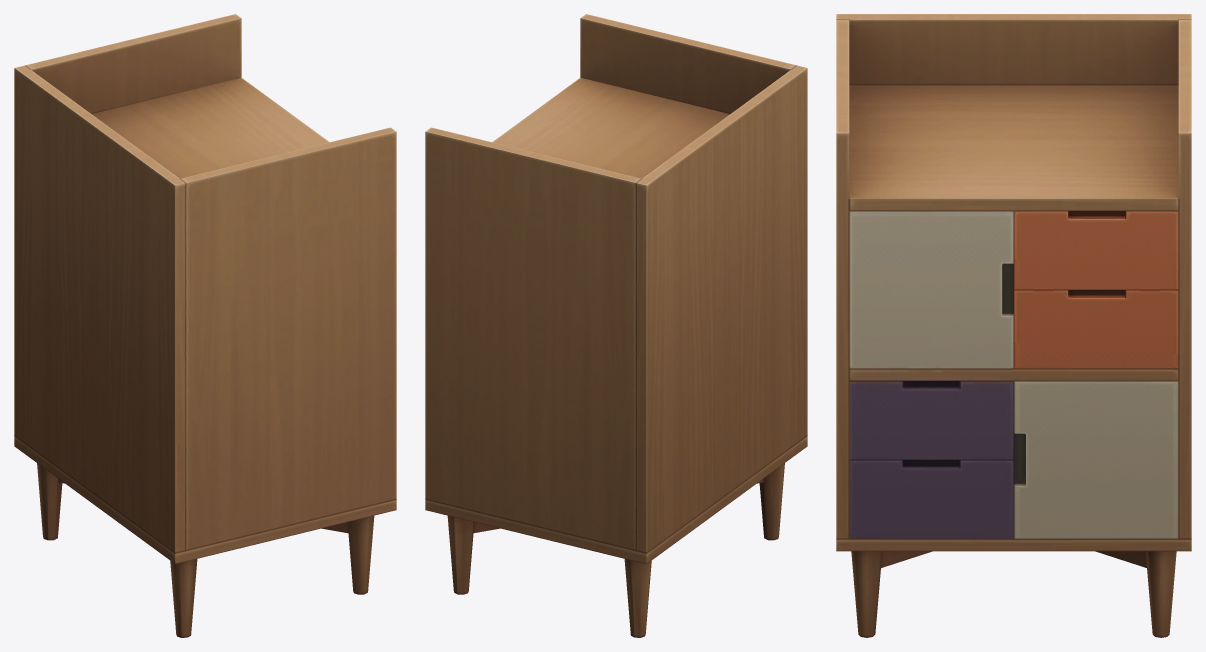
The model's file is stubby_cubby_dresser.glb.
3 renders of one model, left to right at view 1: azimuth 30°, elevation 25°; view 2: azimuth 150°, elevation 25°; view 3: azimuth 270°, elevation 25°, orthographic. The views are drawn at different scales.
Parts seen in each view (by area): view 1: TinyLiving_StubbyCubbyDresser; view 2: TinyLiving_StubbyCubbyDresser; view 3: TinyLiving_StubbyCubbyDresser.
Part boxes in pixels (x1,y1,x2,y2): TinyLiving_StubbyCubbyDresser: [14, 14, 396, 637]; TinyLiving_StubbyCubbyDresser: [425, 14, 807, 637]; TinyLiving_StubbyCubbyDresser: [836, 14, 1191, 637].
Bounding box in the file's own units: 0.6752 × 1.36 × 0.85.
1 material, 1 textured.
